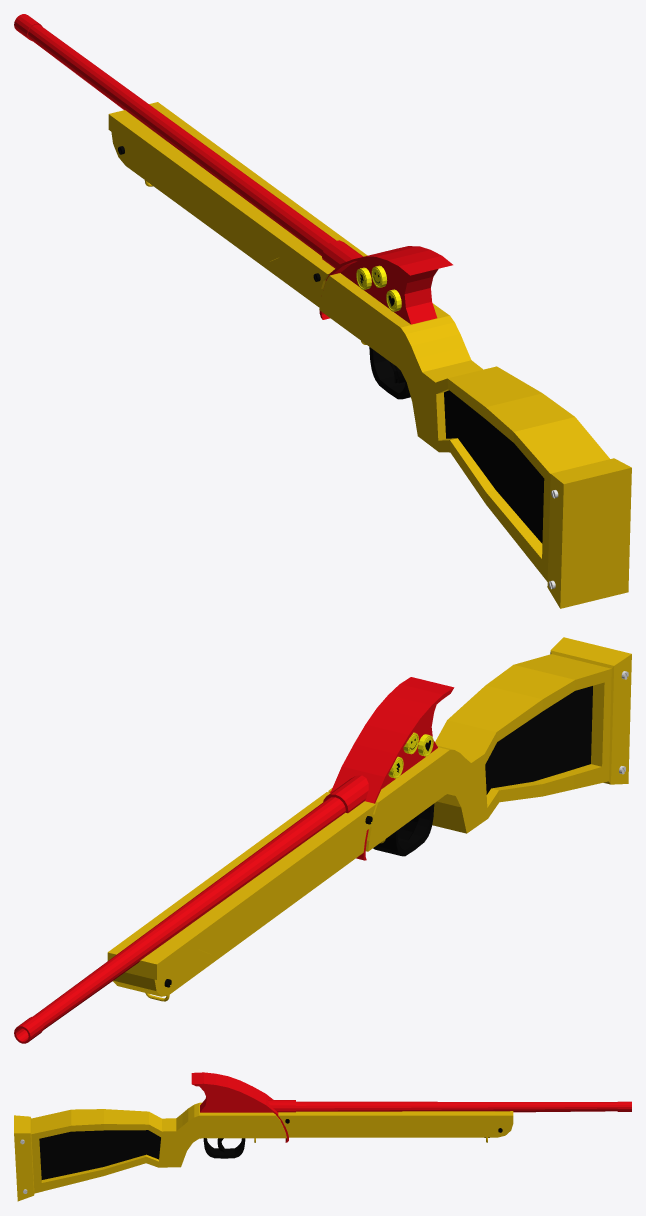
Rendered from riflededardos (1).glb.
3 renders of one model, top to bottom at view 1: azimuth 30°, elevation 25°; view 2: azimuth 150°, elevation 25°; view 3: azimuth 270°, elevation 25°, orthographic. The views are drawn at different scales.
Parts seen in each view (by area): view 1: arma.005, cone, arma.002, Cone, segurin; view 2: arma.005, cone, arma.002, Cone, segurin; view 3: arma.005, arma.002, cone, Cone, segurin.
Part boxes in pixels (x1,y1,x2,y2): arma.005: (108, 102, 631, 608); cone: (14, 14, 363, 268); arma.002: (444, 390, 544, 543); Cone: (330, 246, 452, 324); segurin: (369, 347, 410, 399); arma.005: (107, 637, 631, 996); cone: (14, 775, 368, 1043); arma.002: (485, 686, 592, 794); Cone: (330, 677, 454, 803); segurin: (373, 803, 434, 856); arma.005: (14, 1102, 513, 1201); arma.002: (39, 1130, 160, 1179); cone: (268, 1100, 631, 1112); Cone: (191, 1072, 278, 1114); segurin: (203, 1138, 245, 1158).
Bounding box in the file's own units: 0.1401 × 0.3854 × 1.89.
Materials: 5 (1 with a texture image).
